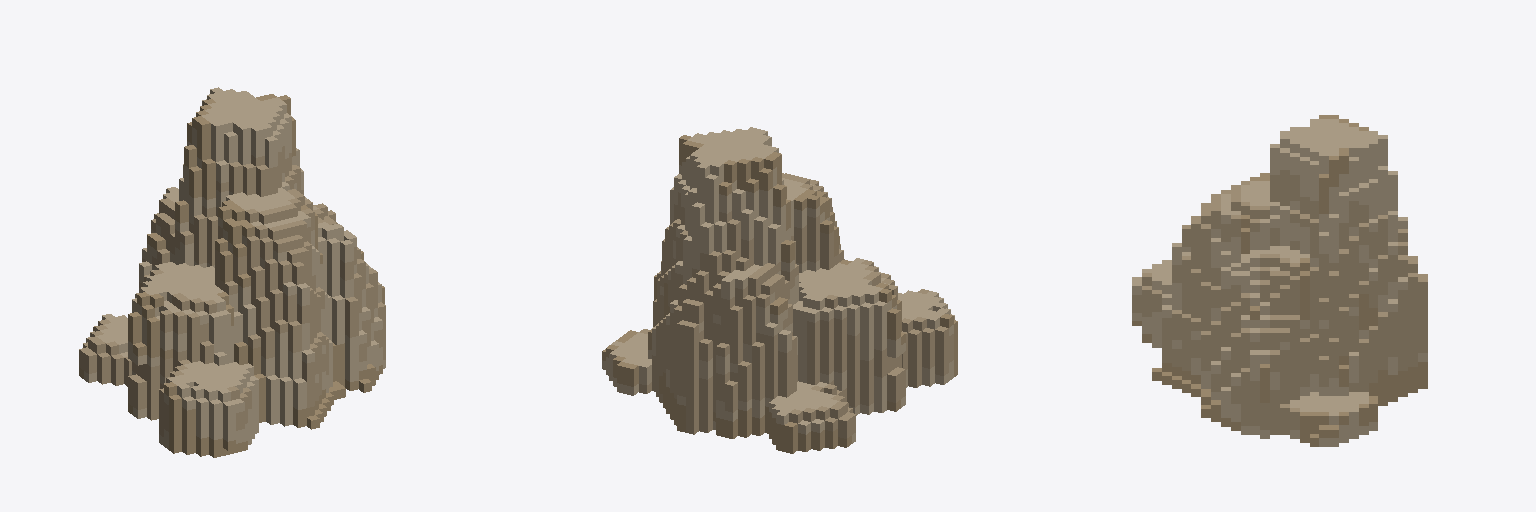
3 views of the same model, side by side, from view 1: azimuth 30°, elevation 25°; view 2: azimuth 150°, elevation 25°; view 3: azimuth 270°, elevation 25° (orthographic).
Visible parts, largest first — view 1: Voxelized_rock2; view 2: Voxelized_rock2; view 3: Voxelized_rock2.
Boxes of the visible parts, box(x1,y1,x2,y2) form: Voxelized_rock2: box(79, 87, 385, 457); Voxelized_rock2: box(602, 127, 957, 453); Voxelized_rock2: box(1132, 115, 1427, 446).
Bounding box in the file's own units: 32 × 28 × 30.
1 materials, 1 textured.